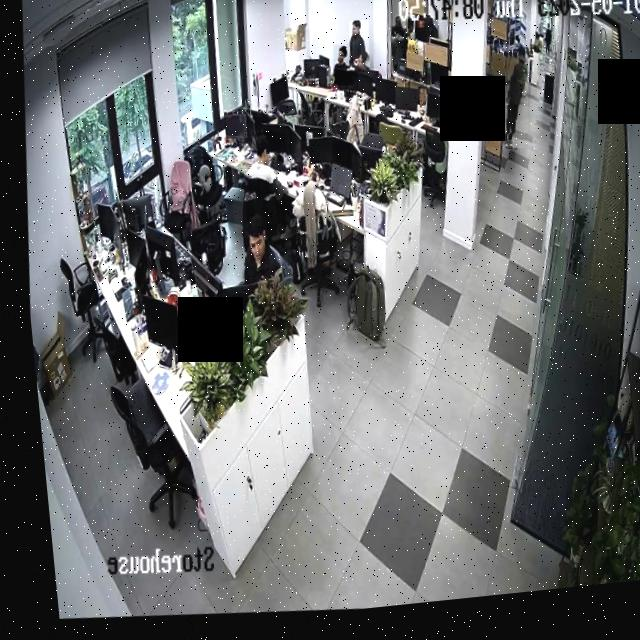person: (230, 215, 290, 293), (231, 134, 286, 206), (493, 56, 531, 160), (344, 27, 370, 78), (328, 50, 353, 94)
